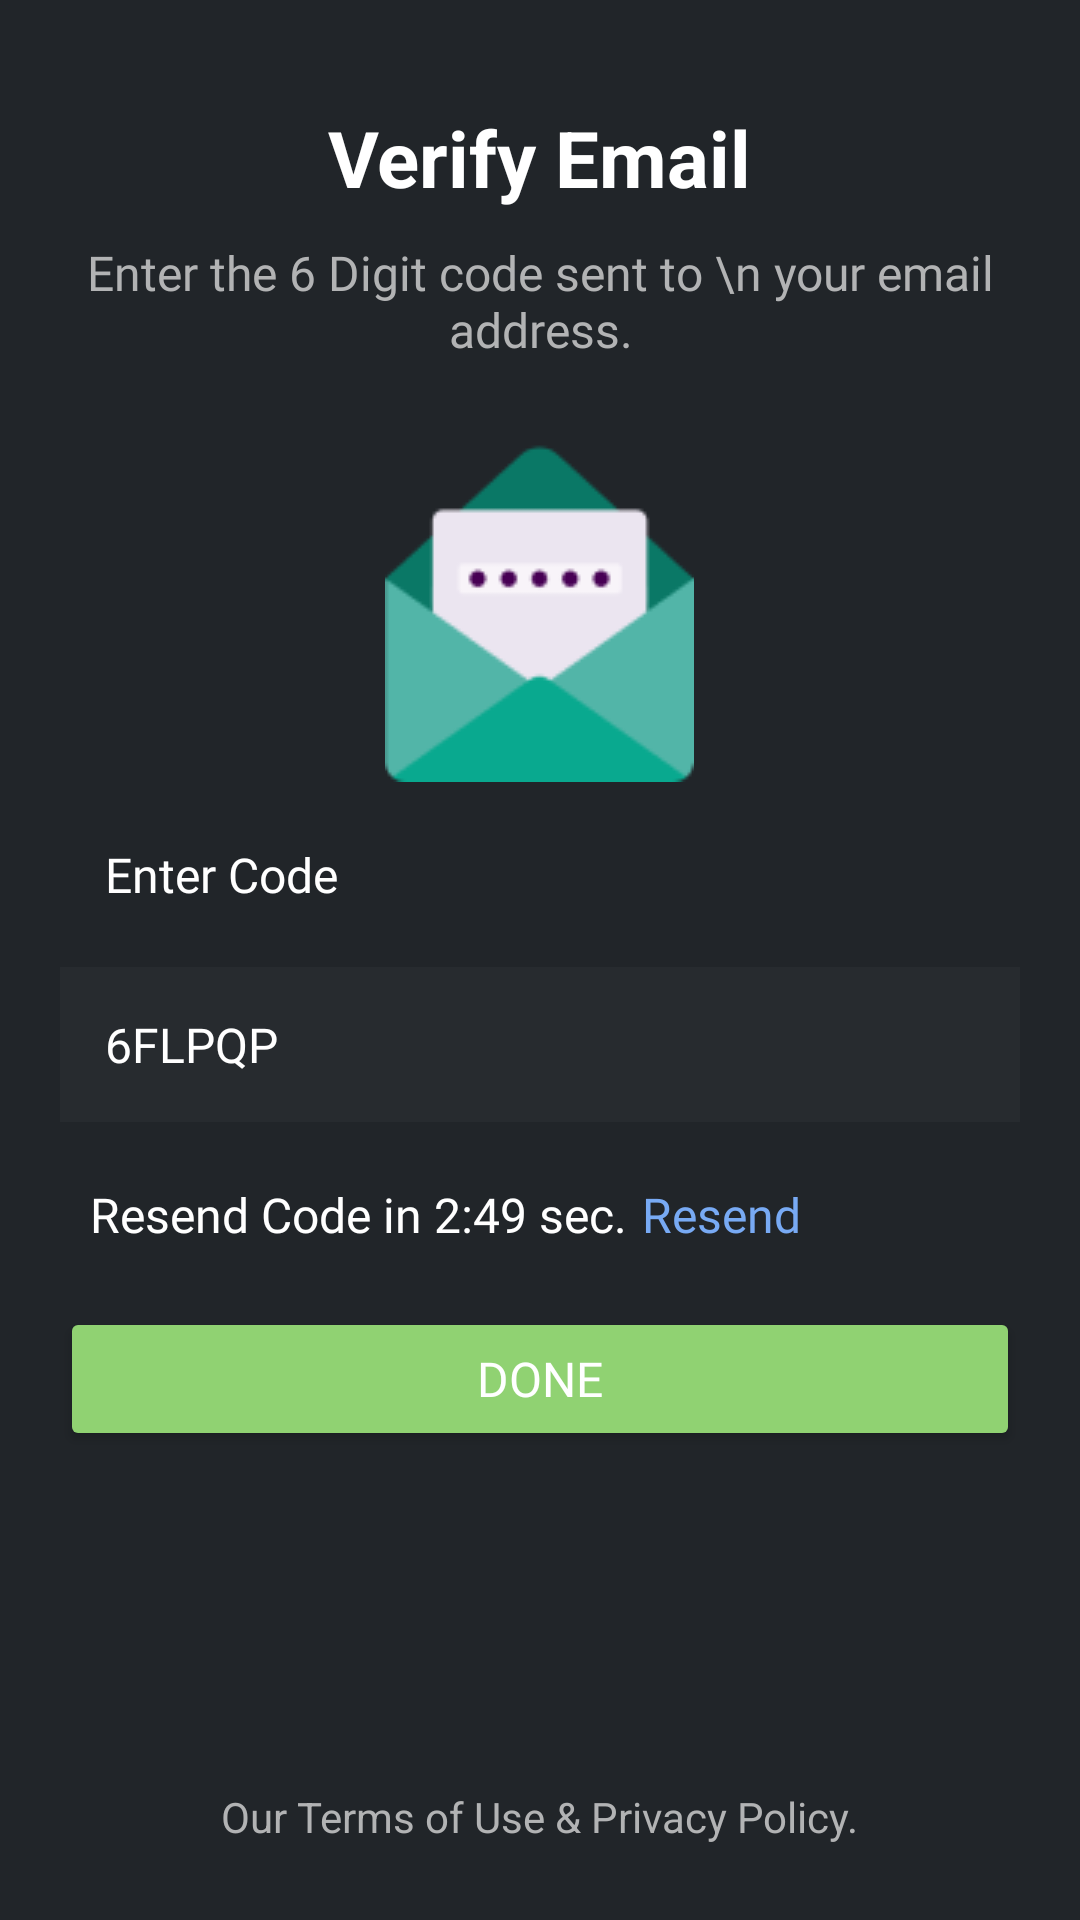

Icon bounding boxes for this 1080 x 1920 phone screenshot, format BBox(x1, y1, x2, y2):
verify email: BBox(385, 446, 694, 782)
